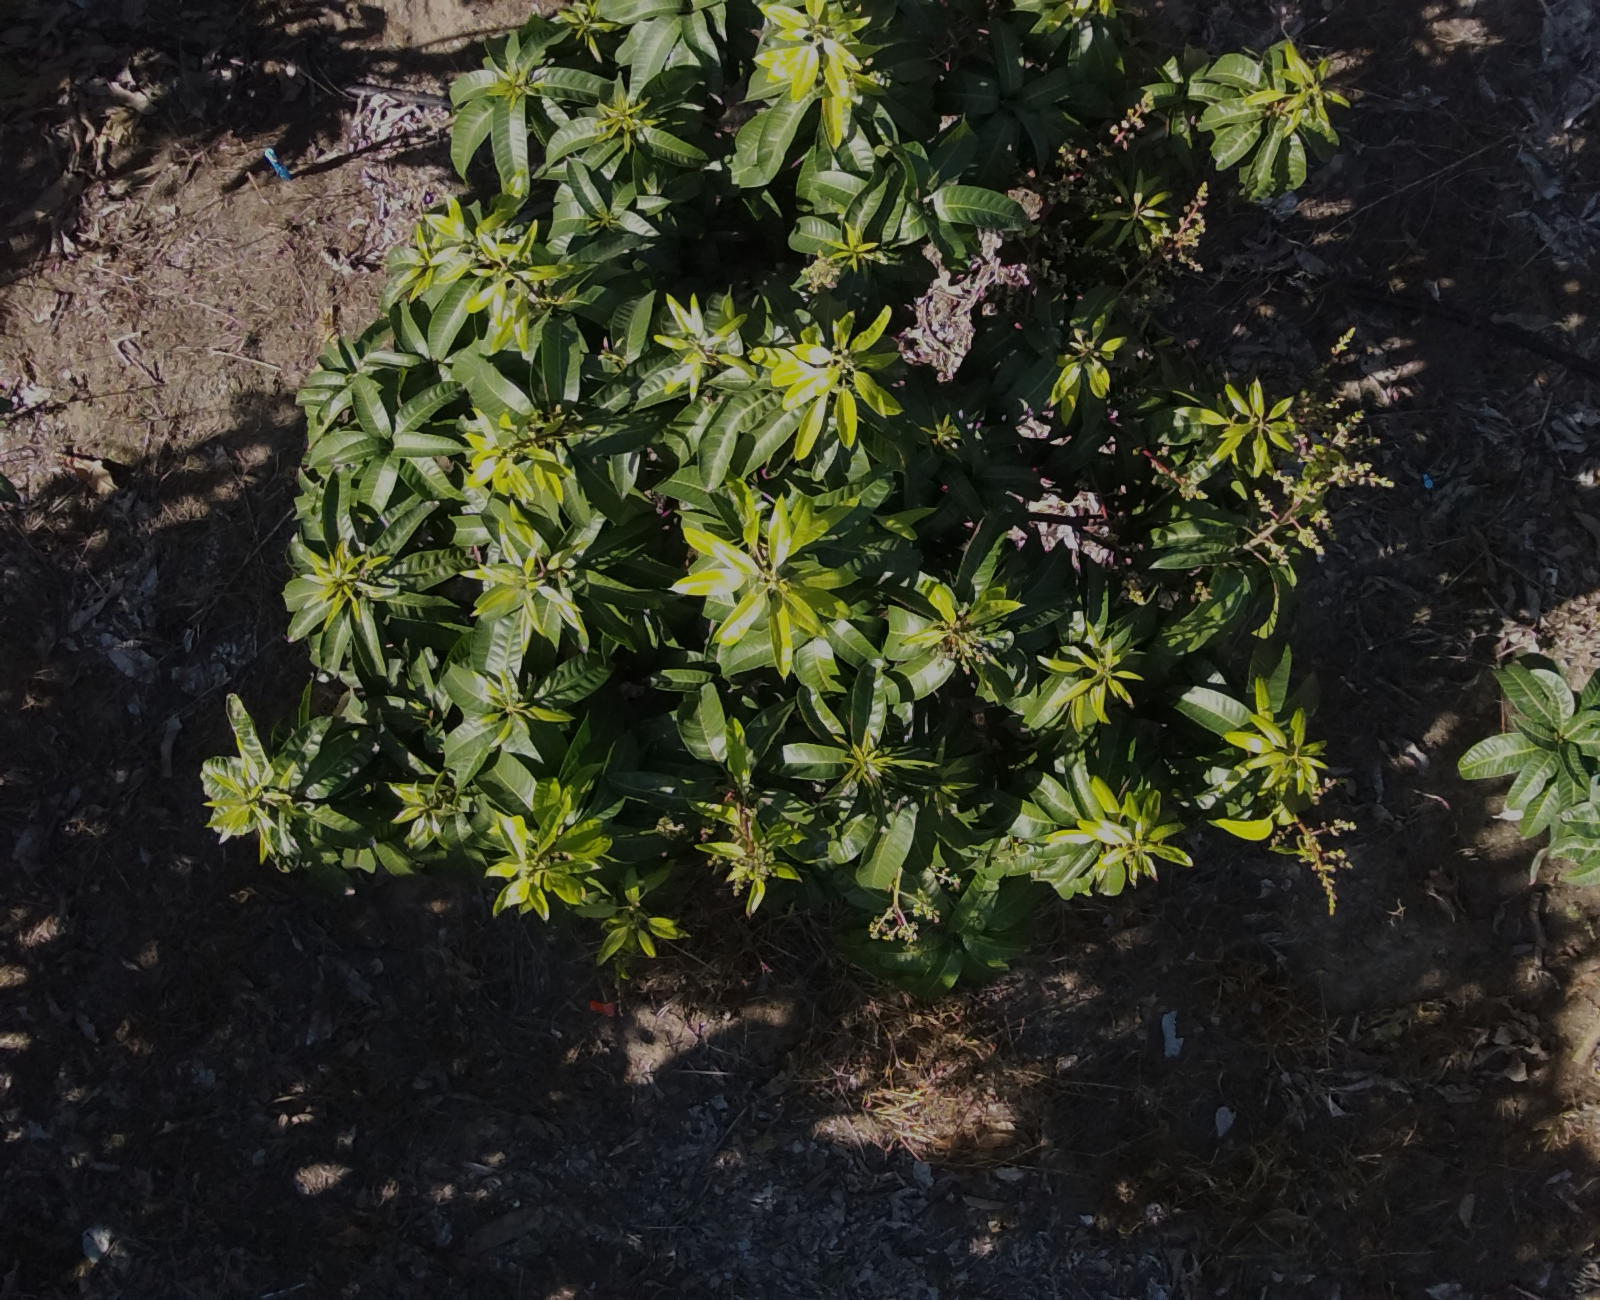flowers: (1229, 397, 1382, 584), (698, 718, 796, 911), (1497, 588, 1600, 688), (1270, 816, 1355, 911), (869, 868, 938, 943), (1142, 448, 1206, 499), (1109, 88, 1153, 147), (1100, 436, 1114, 455)
